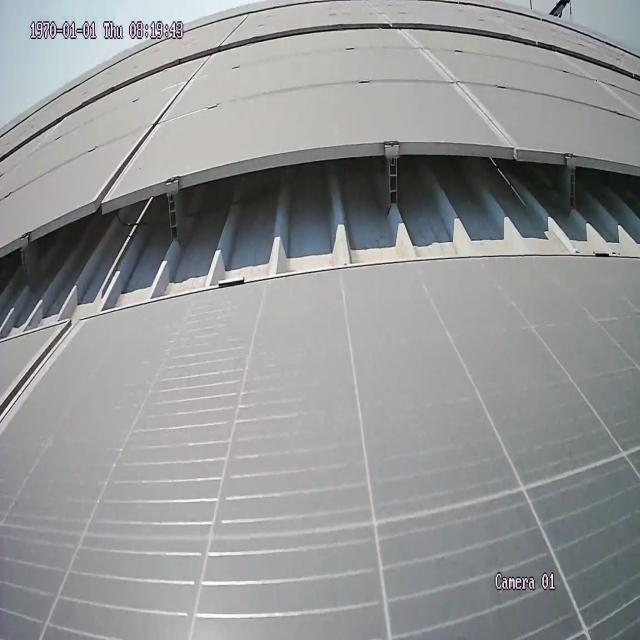interior panel: (92, 58, 212, 193), (393, 34, 520, 140), (2, 329, 83, 438)
outher panel: (1, 144, 640, 344)
